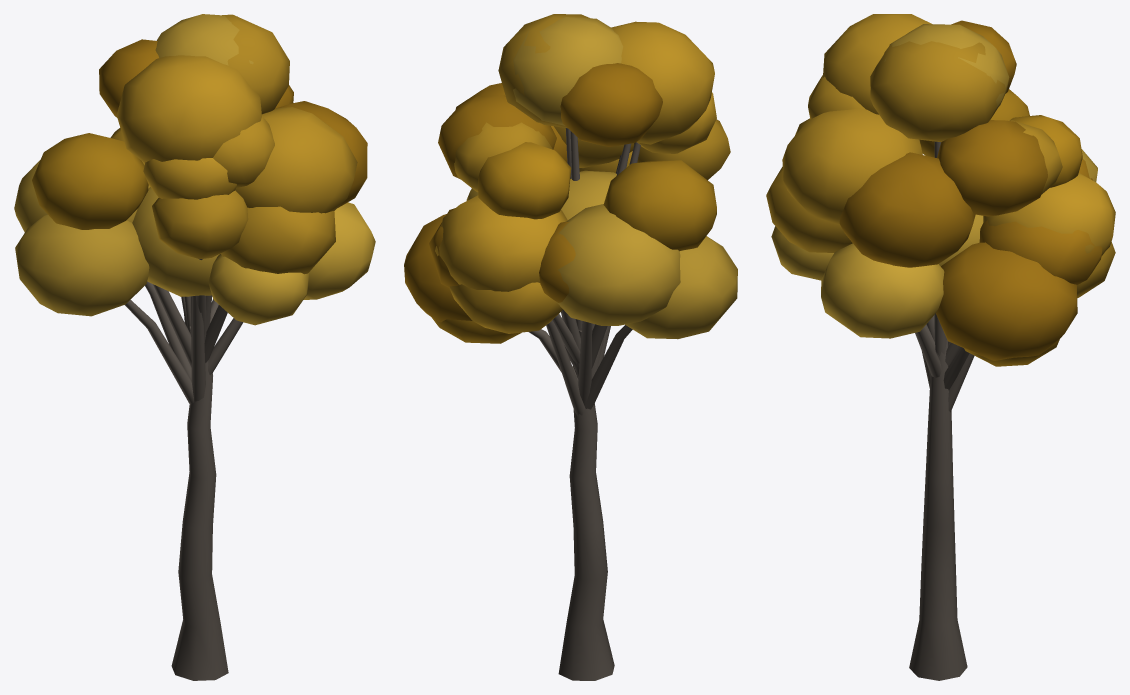
File: tree_ginkgo.glb
3 views of the same model, side by side, from view 1: azimuth 30°, elevation 25°; view 2: azimuth 150°, elevation 25°; view 3: azimuth 270°, elevation 25° (orthographic).
Visible parts, largest first — view 1: crown, trunk; view 2: crown, trunk; view 3: crown, trunk.
Boxes of the visible parts, <box> form: crown: <box>14,14,375,325</box>; trunk: <box>125,259,243,680</box>; crown: <box>404,14,737,343</box>; trunk: <box>528,128,640,680</box>; crown: <box>766,14,1115,366</box>; trunk: <box>909,141,974,680</box>.
Size of the model in its own units: 3.36 by 6.79 by 3.34.
